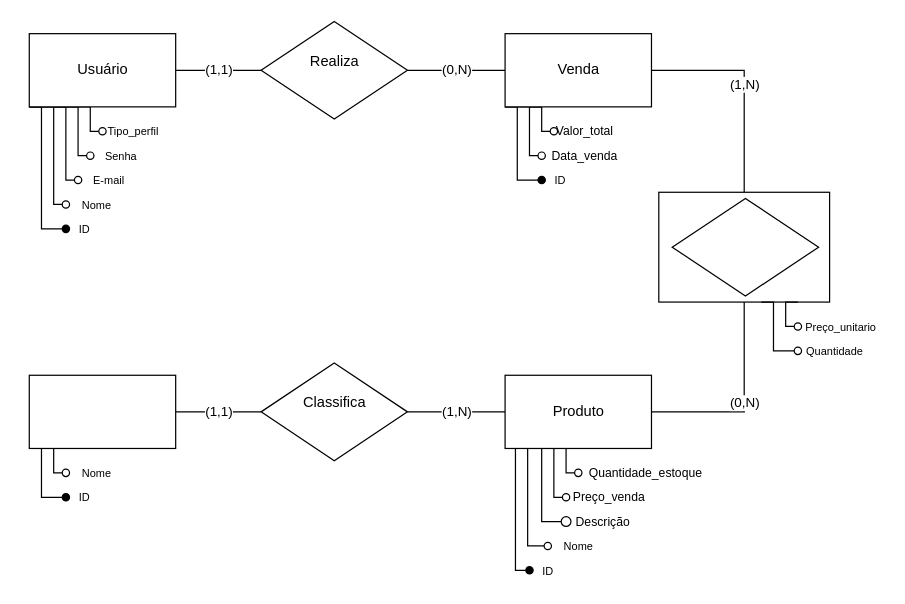
Image size: 905x604. Some labels were removed from this diagram. The centre of each missing label's shape, as x and y in pixels:
"Categoria" belongs at point 102,411.
"Contém" belongs at point 745,246.
